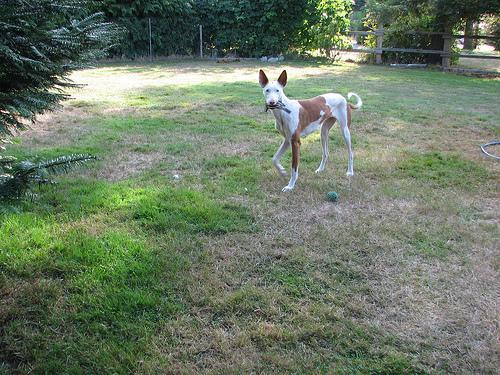Ibizan_hound: (257, 67, 364, 193)
